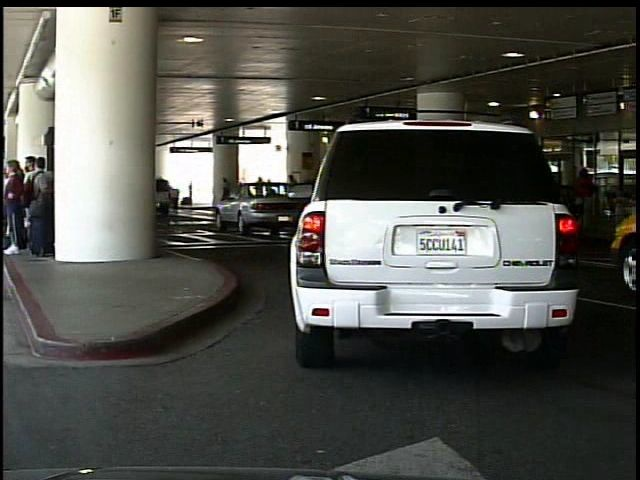person: (571, 162, 602, 248), (221, 173, 234, 208), (188, 179, 195, 206)
